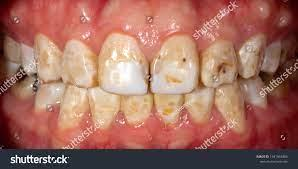LLCI_mdecay: (152, 94, 184, 126)
LLC_mdecay: (214, 84, 247, 133)
LLLI_mdecay: (185, 87, 214, 121)
LRCI_mdecay: (121, 95, 152, 126)
LRC_mdecay: (56, 87, 89, 129)
LRLI_mdecay: (89, 92, 120, 128)
ULCI_sdecay: (149, 35, 199, 96)
ULC_sdecay: (237, 33, 264, 80)
ULLI_sdecay: (200, 38, 237, 87)
URCI_mdecay: (97, 34, 149, 97)
URC_mdecay: (35, 33, 62, 83)
URLI_mdecay: (61, 35, 98, 88)
